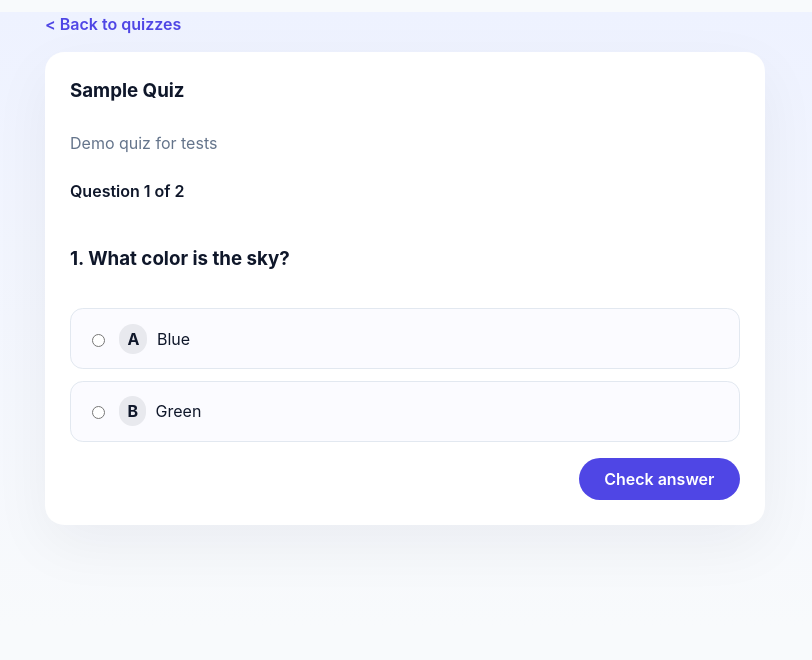
Test: QuizDetailPage › shows feedback and explanation after submitting an answer
The width and height of the screenshot is (812, 660).
Click the radio button labelled "A Blue". click: coordinates (98, 340)
box: x1=92 y1=334 x2=105 y2=347
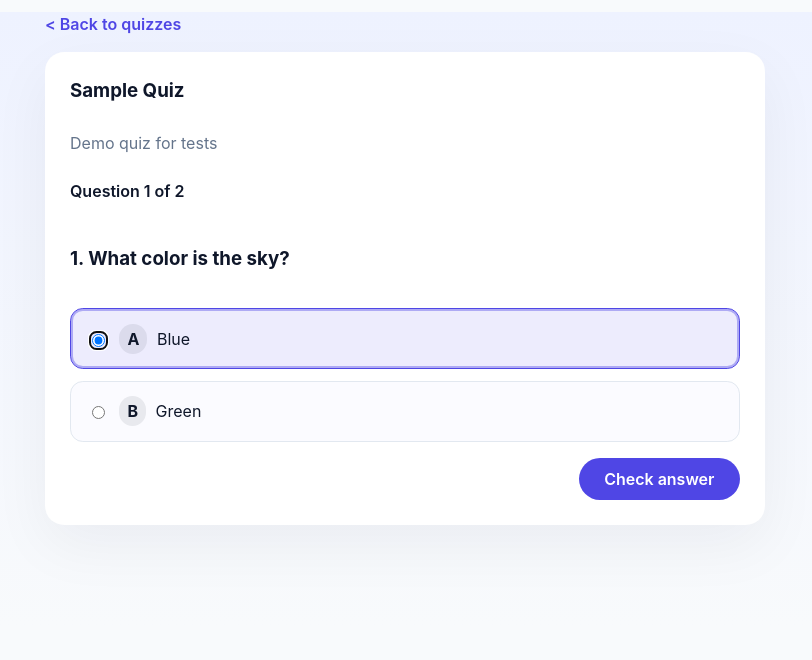
Click the button "Check answer". click: coordinates (659, 479)
box: x1=578 y1=458 x2=740 y2=500
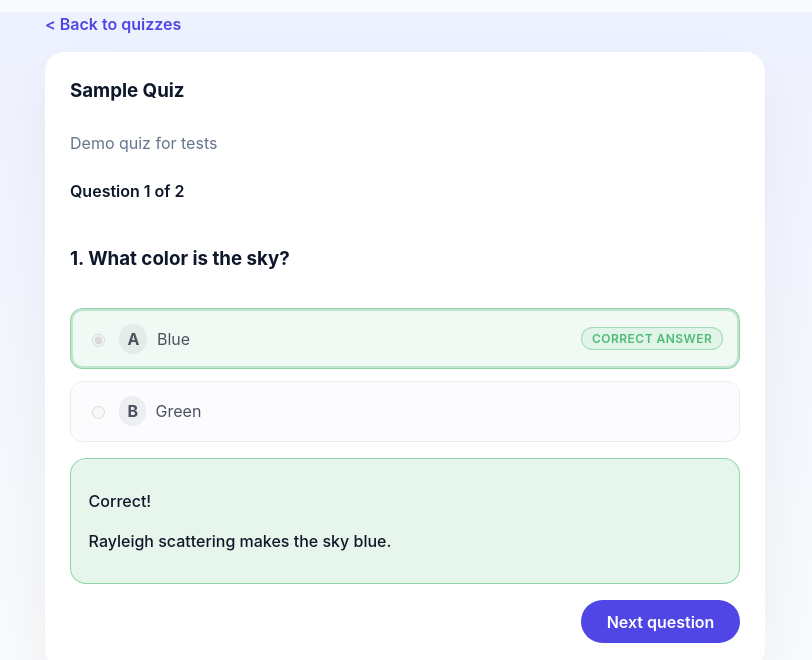
Result: the text "Correct!" is shown at x1=89 y1=491 x2=151 y2=511
Result: the text "Rayleigh scattering makes the sky blue." is shown at x1=89 y1=531 x2=391 y2=551
